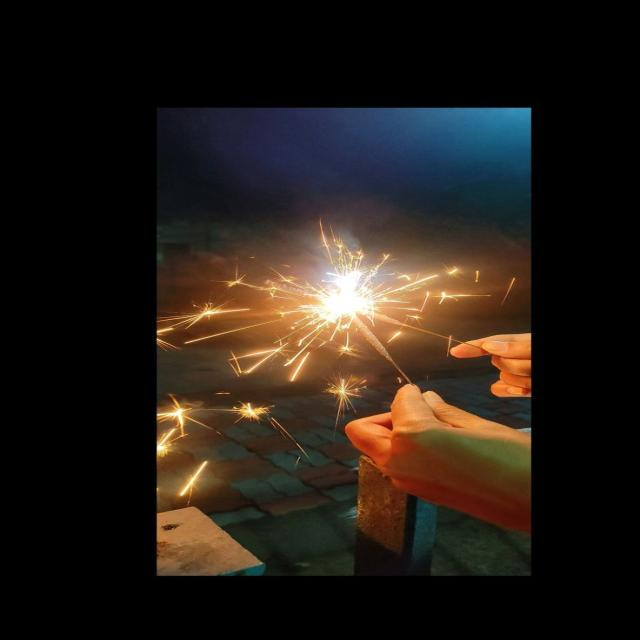fire: (313, 261, 380, 321)
